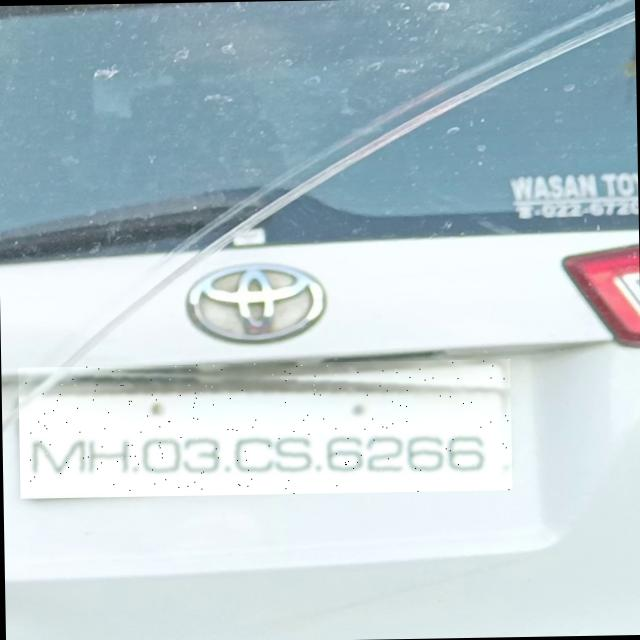Plate: (19, 360, 513, 500)
